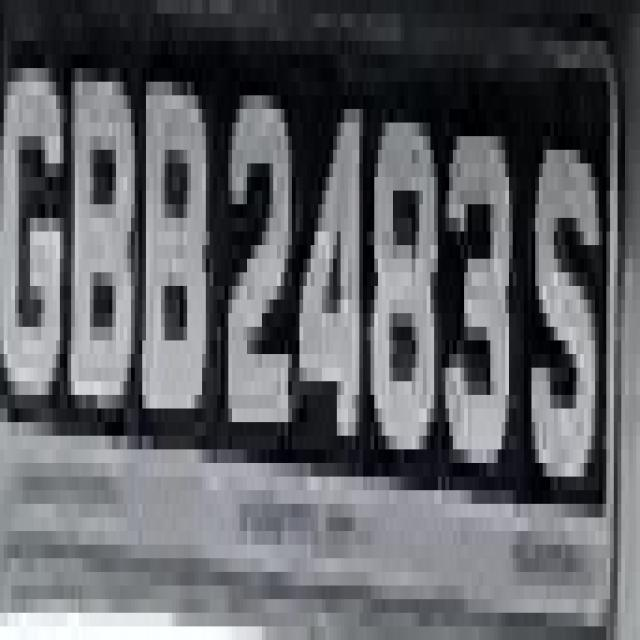2: (224, 54, 307, 463)
3: (434, 68, 517, 504)
4: (292, 68, 374, 518)
8: (366, 109, 442, 490)
B: (138, 41, 214, 476), (64, 27, 138, 463)
G: (4, 41, 64, 436)
S: (524, 109, 603, 545)
